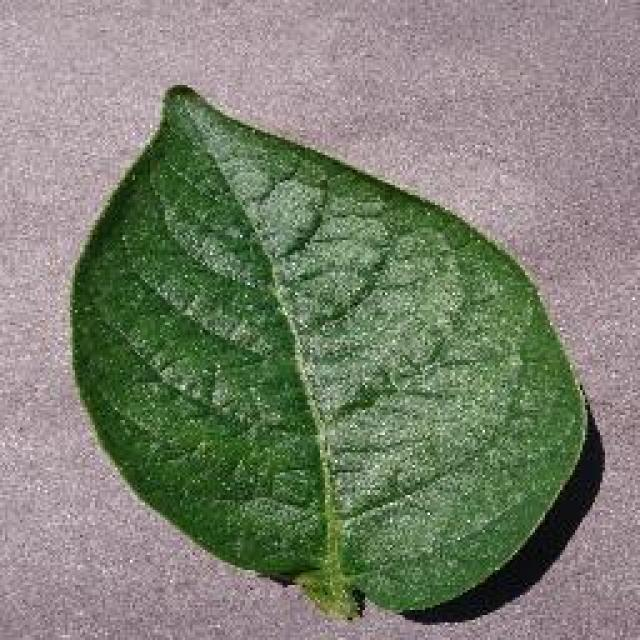Potato: (68, 80, 590, 620)
